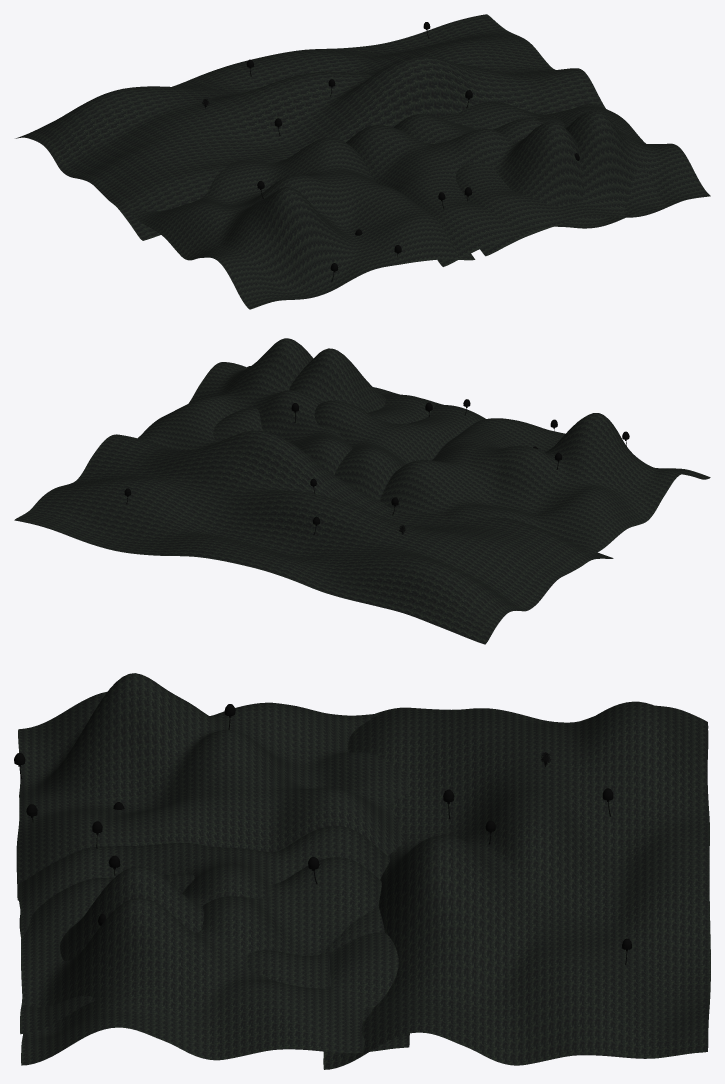
Rendered from islandtwo.glb.
The picture shows the model from 3 angles, top to bottom: view 1: azimuth 30°, elevation 25°; view 2: azimuth 150°, elevation 25°; view 3: azimuth 270°, elevation 25°; orthographic projection. The views are drawn at different scales.
Visible parts, largest first — view 1: Plane001 (×4); view 2: Plane001 (×4); view 3: Plane001 (×4).
Part boxes in pixels (x1,y1,x2,y2): Plane001 (×4): (15,14,710,309); Plane001 (×4): (14,338,710,644); Plane001 (×4): (16,673,710,1069).
Size of the model in its own units: 0.3175 by 0.0619 by 0.2686.
Materials: 7 (1 with a texture image).
